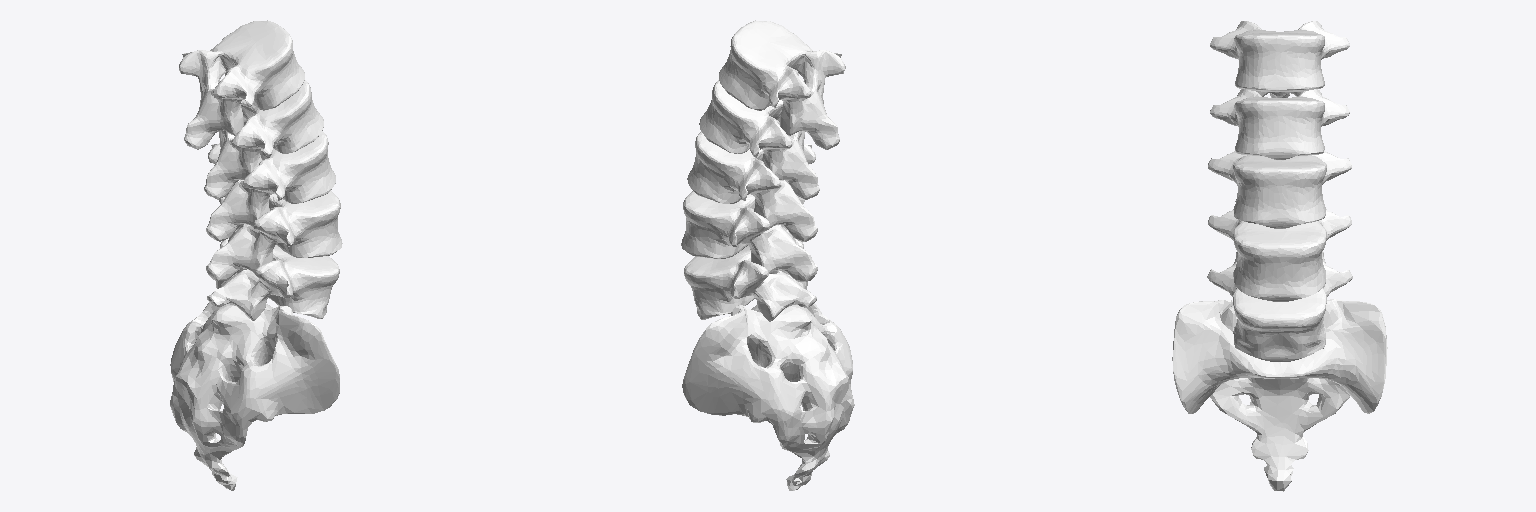
URDF robot description (skeleton_trunk_flexible):
<?xml version="1.0"?>
<robot name="skeleton_trunk_flexible">
  <material name="White"> <!-- for bones -->
    <color rgba="1 1 1 1"/>
  </material>
  <material name="Green"> <!-- for bones -->
    <color rgba="0 1 0.1 0.2"/>
  </material>

  <link name="base_link"/>
  <joint name="base_link_J" type="fixed">
      <parent link="base_link"/>
      <child link="Pelvis"/>
      <origin rpy="0 0 0" xyz="0 0 0"/>
   </joint>

  <link name="Pelvis">
      <inertial>
         <origin rpy="0 0 0" xyz="0 0 0"/>
         <mass value="8.4552"/>
         <inertia ixx="0" ixy="0" ixz="0" iyy="0" iyz="0" izz="0"/>
      </inertial>
      <visual>
         <origin xyz="0 0 0" rpy="0 0 0"/>
         <geometry>
            <mesh filename="package://hpp-rbprm-corba/meshes/skeleton/Pelvis_view.dae"/>
         </geometry>
         <material name="White"/>
      </visual>
      <collision>
         <origin xyz="0 0 0" rpy="0 0 0"/>
         <geometry>
            <mesh filename="package://hpp-rbprm-corba/meshes/skeleton/pelvis_box.stl"/>
         </geometry>
      </collision>
   </link>


 <!--<joint name="pelvis_rfoot_rom_joint" type="fixed">
      <parent link="Pelvis"/>
      <child link="pelvis_rfoot_rom"/>
      <origin rpy="0 0 0" xyz="0 0 0"/>
   </joint>

  <link name="pelvis_rfoot_rom">
      <visual>
         <origin xyz="0 0 0" rpy="0 0 0"/>
         <geometry>
            <mesh filename="package://hpp-rbprm-corba/meshes/skeleton/rfoot_rom.stl"/>
         </geometry>
         <material name="Green"/>
      </visual>
   </link>-->

  <!--<joint name="pelvis_lfoot_rom_joint" type="fixed">
      <parent link="Pelvis"/>
      <child link="pelvis_lfoot_rom"/>
      <origin rpy="0 0 0" xyz="0 0 0"/>
   </joint>

  <link name="pelvis_lfoot_rom">
      <visual>
         <origin xyz="0 0 0" rpy="0 0 0"/>
         <geometry>
            <mesh filename="package://hpp-rbprm-corba/meshes/skeleton/lfoot_rom.stl"/>
         </geometry>
         <material name="Green"/>
      </visual>
   </link>-->


   <link name="PelvisSacrum_J1"/>
   <link name="PelvisSacrum_J2"/>
   <link name="Sacrum">
      <inertial>
         <origin rpy="0 0 0" xyz="-0.0255 0 0.028333"/>
         <mass value="0"/>
         <inertia ixx="0" ixy="0" ixz="0" iyy="0" iyz="0" izz="0"/>
      </inertial>
      <visual>
         <origin xyz="-0.0255 0 0.028333" rpy="0 0 0"/>
         <geometry>
            <mesh filename="package://hpp-rbprm-corba/meshes/skeleton/Sacrum.stl"/>
         </geometry>
         <material name="White"/>
      </visual>
   </link>
   <link name="SacrumL5_J1"/>
   <link name="SacrumL5_J2"/>
   <link name="L5">
      <inertial>
         <origin rpy="0 0 0" xyz="0.0075556 0 0.013222"/>
         <mass value="0"/>
         <inertia ixx="0" ixy="0" ixz="0" iyy="0" iyz="0" izz="0"/>
      </inertial>
      <visual>
         <origin xyz="0.0075556 0 0.013222" rpy="0 0 0"/>
         <geometry>
            <mesh filename="package://hpp-rbprm-corba/meshes/skeleton/L5.stl"/>
         </geometry>
         <material name="White"/>
      </visual>
   </link>
   <link name="L5L4_J1"/>
   <link name="L5L4_J2"/>
   <link name="L4">
      <inertial>
         <origin rpy="0 0 0" xyz="0.0056667 0 0.016056"/>
         <mass value="0"/>
         <inertia ixx="0" ixy="0" ixz="0" iyy="0" iyz="0" izz="0"/>
      </inertial>
      <visual>
         <origin xyz="0.0056667 0 0.016056" rpy="0 0 0"/>
         <geometry>
            <mesh filename="package://hpp-rbprm-corba/meshes/skeleton/L4.stl"/>
         </geometry>
         <material name="White"/>
      </visual>
   </link>
   <link name="L4L3_J1"/>
   <link name="L4L3_J2"/>
   <link name="L3">
      <inertial>
         <origin rpy="0 0 0" xyz="0.00094444 0 0.017"/>
         <mass value="0"/>
         <inertia ixx="0" ixy="0" ixz="0" iyy="0" iyz="0" izz="0"/>
      </inertial>
      <visual>
         <origin xyz="0.00094444 0 0.017" rpy="0 0 0"/>
         <geometry>
            <mesh filename="package://hpp-rbprm-corba/meshes/skeleton/L3.stl"/>
         </geometry>
         <material name="White"/>
      </visual>
   </link>
   <link name="L3L2_J1"/>
   <link name="L3L2_J2"/>
   <link name="L2">
      <inertial>
         <origin rpy="0 0 0" xyz="-0.00094444 0 0.015111"/>
         <mass value="0"/>
         <inertia ixx="0" ixy="0" ixz="0" iyy="0" iyz="0" izz="0"/>
      </inertial>
      <visual>
         <origin xyz="-0.00094444 0 0.015111" rpy="0 0 0"/>
         <geometry>
            <mesh filename="package://hpp-rbprm-corba/meshes/skeleton/L2.stl"/>
         </geometry>
         <material name="White"/>
      </visual>
   </link>
   <link name="L2L1_J1"/>
   <link name="L2L1_J2"/>
   <link name="L1">
      <inertial>
         <origin rpy="0 0 0" xyz="-0.0028333 0 0.015111"/>
         <mass value="0"/>
         <inertia ixx="0" ixy="0" ixz="0" iyy="0" iyz="0" izz="0"/>
      </inertial>
      <visual>
         <origin xyz="-0.0028333 0 0.015111" rpy="0 0 0"/>
         <geometry>
            <mesh filename="package://hpp-rbprm-corba/meshes/skeleton/L1.stl"/>
         </geometry>
         <material name="White"/>
      </visual>
   </link>
   <link name="L1Thorax_J1"/>
   <link name="L1Thorax_J2"/>
   <link name="Thorax">
      <inertial>
         <origin rpy="0 0 0" xyz="0.035889 0 0.14072"/>
         <mass value="19.8372"/>
         <inertia ixx="-0.16485" ixy="0.25777" ixz="0.0015499" iyy="0.20309" iyz="-0.0061998" izz="-0.18263"/>
      </inertial>
      <visual>
         <origin xyz="0.035889 0 0.14072" rpy="0 0 0"/>
         <geometry>
            <mesh filename="package://hpp-rbprm-corba/meshes/skeleton/Thorax_view_armless.dae"/>
         </geometry>
         <material name="White"/>
      </visual>
      <collision>
         <origin xyz="0.035889 0 0.14072" rpy="0 0 0"/>
         <geometry>
            <mesh filename="package://hpp-rbprm-corba/meshes/skeleton/thorax_box.stl"/>
         </geometry>
      </collision>
   </link>

   <link name="ThoraxSkull_J1"/>
   <link name="ThoraxSkull_J2"/>
   <link name="Skull">
      <inertial>
         <origin rpy="0 0 0" xyz="0 0 0"/>
         <mass value="4.2276"/>
         <inertia ixx="0.0071027" ixy="-0.00059867" ixz="-2.9564e-05" iyy="0.0046194" iyz="6.6519e-05" izz="0.0080488"/>
      </inertial>
      <visual>
         <origin xyz="0 0 0" rpy="0 0 0"/>
         <geometry>
            <mesh filename="package://hpp-rbprm-corba/meshes/skeleton/Skull_view.dae"/>
         </geometry>
         <material name="White"/>
      </visual>
      <collision>
         <origin xyz="0 0 0" rpy="0 0 0"/>
         <geometry>
            <mesh filename="package://hpp-rbprm-corba/meshes/skeleton/skull_box.stl"/>
         </geometry>
      </collision>
   </link>

   <joint name="A_PelvisSacrum_J1" type="revolute"> <!-- A_ added for order while parsing with ROS -->
      <parent link="Pelvis"/>
      <child link="PelvisSacrum_J1"/>
      <origin rpy="0 0 0" xyz="-0.010389 0 0.018889"/>
      <axis xyz="1 0 0"/>
      <limit effort="0" lower="-0.2" upper="0.2" velocity="1.0"/>
   </joint>
   <joint name="PelvisSacrum_J2" type="revolute">
      <parent link="PelvisSacrum_J1"/>
      <child link="PelvisSacrum_J2"/>
      <origin rpy="0 0 0" xyz="0 0 0"/>
      <axis xyz="0 0 1"/>
      <limit effort="0" lower="-0.2" upper="0.2" velocity="1.0"/>
   </joint>
   <joint name="Sacrum" type="revolute">
      <parent link="PelvisSacrum_J2"/>
      <child link="Sacrum"/>
      <origin rpy="0 0 0" xyz="0 0 0"/>
      <axis xyz="0 1 0"/>
      <limit effort="0" lower="-0.1" upper="0.3" velocity="1.0"/>
   </joint>
   <joint name="SacrumL5_J1" type="revolute">
      <parent link="Sacrum"/>
      <child link="SacrumL5_J1"/>
      <origin rpy="0 0 0" xyz="0.015111 0 0.023611"/>
      <axis xyz="1 0 0"/>
      <limit effort="0" lower="-0.1" upper="0.1" velocity="1.0"/>
   </joint>
   <joint name="SacrumL5_J2" type="revolute">
      <parent link="SacrumL5_J1"/>
      <child link="SacrumL5_J2"/>
      <origin rpy="0 0 0" xyz="0 0 0"/>
      <axis xyz="0 0 1"/>
      <limit effort="0" lower="-0.1" upper="0.1" velocity="1.0"/>
   </joint>
   <joint name="L5" type="revolute">
      <parent link="SacrumL5_J2"/>
      <child link="L5"/>
      <origin rpy="0 0 0" xyz="0 0 0"/>
      <axis xyz="0 1 0"/>
      <limit effort="0" lower="-0.1" upper="0.1" velocity="1.0"/>
   </joint>
   <joint name="L5L4_J1" type="revolute">
      <parent link="L5"/>
      <child link="L5L4_J1"/>
      <origin rpy="0 0 0" xyz="0.0066111 0 0.030222"/>
      <axis xyz="1 0 0"/>
      <limit effort="0" lower="-0.1" upper="0.1" velocity="1.0"/>
   </joint>
   <joint name="L5L4_J2" type="revolute">
      <parent link="L5L4_J1"/>
      <child link="L5L4_J2"/>
      <origin rpy="0 0 0" xyz="0 0 0"/>
      <axis xyz="0 0 1"/>
      <limit effort="0" lower="-0.1" upper="0.1" velocity="1.0"/>
   </joint>
   <joint name="L4" type="revolute">
      <parent link="L5L4_J2"/>
      <child link="L4"/>
      <origin rpy="0 0 0" xyz="0 0 0"/>
      <axis xyz="0 1 0"/>
      <limit effort="0" lower="-0.1" upper="0.1" velocity="1.0"/>
   </joint>
   <joint name="L4L3_J1" type="revolute">
      <parent link="L4"/>
      <child link="L4L3_J1"/>
      <origin rpy="0 0 0" xyz="0 0 0.032111"/>
      <axis xyz="1 0 0"/>
      <limit effort="0" lower="-0.1" upper="0.1" velocity="1.0"/>
   </joint>
   <joint name="L4L3_J2" type="revolute">
      <parent link="L4L3_J1"/>
      <child link="L4L3_J2"/>
      <origin rpy="0 0 0" xyz="0 0 0"/>
      <axis xyz="0 0 1"/>
      <limit effort="0" lower="-0.1" upper="0.1" velocity="1.0"/>
   </joint>
   <joint name="L3" type="revolute">
      <parent link="L4L3_J2"/>
      <child link="L3"/>
      <origin rpy="0 0 0" xyz="0 0 0"/>
      <axis xyz="0 1 0"/>
      <limit effort="0" lower="-0.1" upper="0.1" velocity="1.0"/>
   </joint>
   <joint name="L3L2_J1" type="revolute">
      <parent link="L3"/>
      <child link="L3L2_J1"/>
      <origin rpy="0 0 0" xyz="-0.0056667 0 0.031167"/>
      <axis xyz="1 0 0"/>
      <limit effort="0" lower="-0.1" upper="0.1" velocity="1.0"/>
   </joint>
   <joint name="L3L2_J2" type="revolute">
      <parent link="L3L2_J1"/>
      <child link="L3L2_J2"/>
      <origin rpy="0 0 0" xyz="0 0 0"/>
      <axis xyz="0 0 1"/>
      <limit effort="0" lower="-0.1" upper="0.1" velocity="1.0"/>
   </joint>
   <joint name="L2" type="revolute">
      <parent link="L3L2_J2"/>
      <child link="L2"/>
      <origin rpy="0 0 0" xyz="0 0 0"/>
      <axis xyz="0 1 0"/>
      <limit effort="0" lower="-0.1" upper="0.1" velocity="1.0"/>
   </joint>
   <joint name="L2L1_J1" type="revolute">
      <parent link="L2"/>
      <child link="L2L1_J1"/>
      <origin rpy="0 0 0" xyz="-0.0094444 0 0.027389"/>
      <axis xyz="1 0 0"/>
      <limit effort="0" lower="-0.1" upper="0.1" velocity="1.0"/>
   </joint>
   <joint name="L2L1_J2" type="revolute">
      <parent link="L2L1_J1"/>
      <child link="L2L1_J2"/>
      <origin rpy="0 0 0" xyz="0 0 0"/>
      <axis xyz="0 0 1"/>
      <limit effort="0" lower="-0.1" upper="0.1" velocity="1.0"/>
   </joint>
   <joint name="L1" type="revolute">
      <parent link="L2L1_J2"/>
      <child link="L1"/>
      <origin rpy="0 0 0" xyz="0 0 0"/>
      <axis xyz="0 1 0"/>
      <limit effort="0" lower="-0.1" upper="0.1" velocity="1.0"/>
   </joint>
   <joint name="L1Thorax_J1" type="revolute">
      <parent link="L1"/>
      <child link="L1Thorax_J1"/>
      <origin rpy="0 0 0" xyz="-0.011333 0 0.029278"/>
      <axis xyz="1 0 0"/>
      <limit effort="0" lower="-0.2" upper="0.2" velocity="1.0"/>
   </joint>
   <joint name="L1Thorax_J2" type="revolute">
      <parent link="L1Thorax_J1"/>
      <child link="L1Thorax_J2"/>
      <origin rpy="0 0 0" xyz="0 0 0"/>
      <axis xyz="0 0 1"/>
      <limit effort="0" lower="-1.5" upper="1.5" velocity="1.0"/>
   </joint>
   <joint name="Thorax" type="revolute">
      <parent link="L1Thorax_J2"/>
      <child link="Thorax"/>
      <origin rpy="0 0 0" xyz="0 0 0"/>
      <axis xyz="0 1 0"/>
      <limit effort="0" lower="-0.5" upper="0.6" velocity="1.0"/>
   </joint>
   <joint name="A_ThoraxSkull_J1" type="revolute"> <!-- A_ added for order while parsing with ROS -->
      <parent link="Thorax"/>
      <child link="ThoraxSkull_J1"/>
      <origin rpy="0 0 0" xyz="0.0037778 0 0.42122"/>
      <axis xyz="1 0 0"/>
      <limit effort="0" lower="-0.3" upper="0.3" velocity="1.0"/>
   </joint>
   <joint name="ThoraxSkull_J2" type="revolute">
      <parent link="ThoraxSkull_J1"/>
      <child link="ThoraxSkull_J2"/>
      <origin rpy="0 0 0" xyz="0 0 0"/>
      <axis xyz="0 0 1"/>
      <limit effort="0" lower="-1.4" upper="1.4" velocity="1.0"/>
   </joint>
   <joint name="Skull" type="revolute">
      <parent link="ThoraxSkull_J2"/>
      <child link="Skull"/>
      <origin rpy="0 0 0" xyz="0 0 0"/>
      <axis xyz="0 1 0"/>
      <limit effort="0" lower="-1.1" upper="0.4" velocity="1.0"/>
   </joint>
</robot>

--- What the picture shows (computed from the rendered views, not written in the file) ---
The picture shows the robot from 3 angles, left to right: view 1: azimuth 30°, elevation 25°; view 2: azimuth 150°, elevation 25°; view 3: azimuth 270°, elevation 25°; orthographic projection.
Robot: skeleton_trunk_flexible — 26 links, 25 joints (24 revolute, 1 fixed); root link base_link; default pose: every joint at zero.
Links seen in each view (by area): view 1: Sacrum, L1, L4, L3, L2, L5; view 2: Sacrum, L1, L4, L3, L2, L5; view 3: Sacrum, L4, L3, L1, L5, L2.
Link boxes in pixels (left/top/right/bottom): Sacrum: left=170, top=281, right=339, bottom=490; L1: left=179, top=20, right=304, bottom=149; L4: left=206, top=191, right=342, bottom=280; L3: left=206, top=131, right=335, bottom=241; L2: left=204, top=80, right=323, bottom=199; L5: left=207, top=238, right=339, bottom=320; Sacrum: left=682, top=282, right=854, bottom=490; L1: left=719, top=20, right=845, bottom=149; L4: left=681, top=191, right=817, bottom=281; L3: left=687, top=131, right=817, bottom=241; L2: left=699, top=80, right=819, bottom=199; L5: left=684, top=239, right=816, bottom=321; Sacrum: left=1172, top=299, right=1387, bottom=491; L4: left=1208, top=199, right=1351, bottom=301; L3: left=1208, top=150, right=1351, bottom=228; L1: left=1210, top=21, right=1349, bottom=97; L5: left=1207, top=251, right=1352, bottom=361; L2: left=1210, top=89, right=1349, bottom=159.
Size in the robot's own frame: 0.0865 by 0.0995 by 0.2453 metres.
Meshes: 9 distinct files referenced, 6 mesh visuals loaded (6 binary STL); not drawn: 3 (reference not matched to a file when rendering).